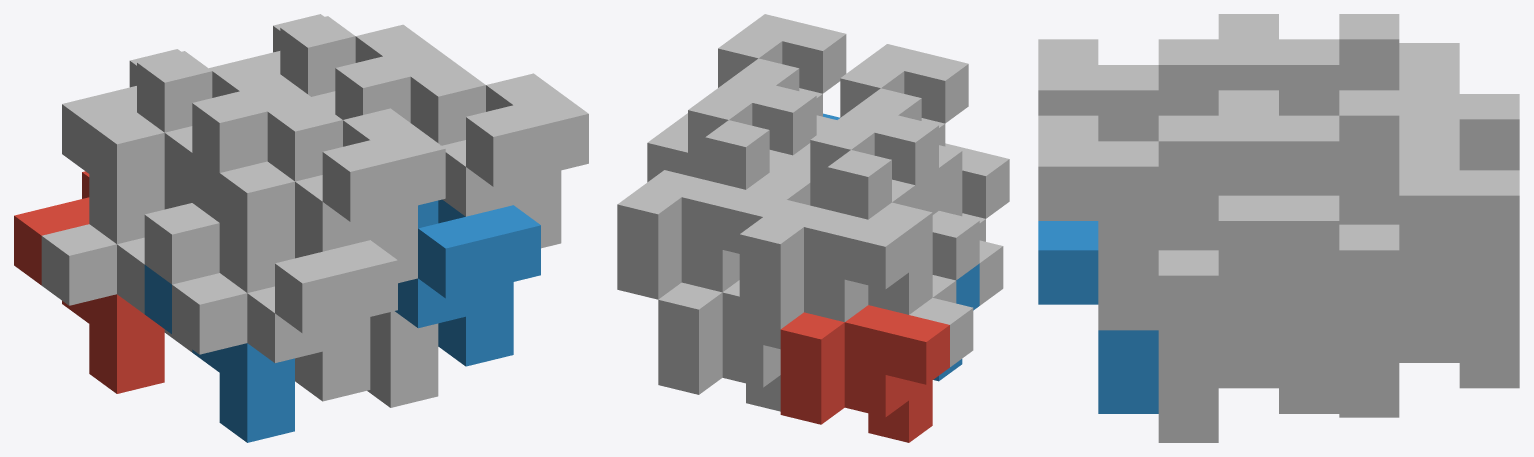
The model's file is tiling.obj.
The picture shows the model from 3 angles, left to right: view 1: azimuth 30°, elevation 25°; view 2: azimuth 150°, elevation 25°; view 3: azimuth 270°, elevation 25°; orthographic projection. The views are drawn at different scales.
Parts seen in each view (by area): view 1: copy_2_domain_4, copy_2_domain_2, copy_2_domain_8, copy_2_domain_3, copy_2_domain_6, copy_2_domain_1, copy_2_domain_7, copy_1_domain_1, copy_1_domain_2, copy_1_domain_6, copy_1_domain_3, copy_1_domain_4 (+1 smaller); view 2: copy_1_domain_1, copy_1_domain_3, copy_1_domain_7, copy_2_domain_3, copy_2_domain_7, copy_1_domain_5, copy_2_domain_4, copy_2_domain_8, copy_2_domain_1, copy_2_domain_2, copy_1_domain_8, copy_1_domain_4 (+1 smaller); view 3: copy_2_domain_8, copy_1_domain_7, copy_1_domain_8, copy_2_domain_7, copy_1_domain_6, copy_1_domain_5, copy_2_domain_3, copy_2_domain_4, copy_2_domain_6, copy_1_domain_3.
Boxes of the visible parts, x1,y1,x2,y2 form: copy_2_domain_4: [219, 100, 445, 283]; copy_2_domain_2: [172, 223, 397, 401]; copy_2_domain_8: [410, 65, 588, 248]; copy_2_domain_3: [89, 51, 314, 202]; copy_2_domain_6: [395, 199, 540, 366]; copy_2_domain_1: [41, 174, 219, 352]; copy_2_domain_7: [280, 16, 457, 122]; copy_1_domain_1: [14, 171, 164, 393]; copy_1_domain_2: [144, 265, 294, 442]; copy_1_domain_6: [367, 311, 438, 407]; copy_1_domain_3: [62, 49, 180, 173]; copy_1_domain_4: [192, 153, 219, 222]; copy_1_domain_1: [780, 305, 949, 442]; copy_1_domain_3: [739, 200, 908, 329]; copy_1_domain_7: [617, 170, 786, 299]; copy_2_domain_3: [810, 105, 938, 271]; copy_2_domain_7: [688, 75, 816, 205]; copy_1_domain_5: [658, 280, 780, 411]; copy_2_domain_4: [840, 44, 968, 210]; copy_2_domain_8: [718, 14, 846, 134]; copy_2_domain_1: [868, 211, 979, 366]; copy_2_domain_2: [939, 143, 1009, 305]; copy_1_domain_8: [647, 113, 687, 182]; copy_1_domain_4: [770, 143, 938, 214]; copy_2_domain_8: [1038, 115, 1218, 330]; copy_1_domain_7: [1339, 119, 1519, 333]; copy_1_domain_8: [1158, 195, 1339, 359]; copy_2_domain_7: [1218, 90, 1399, 224]; copy_1_domain_6: [1158, 304, 1339, 442]; copy_1_domain_5: [1339, 279, 1519, 417]; copy_2_domain_3: [1218, 14, 1399, 115]; copy_2_domain_4: [1038, 39, 1218, 141]; copy_2_domain_6: [1038, 221, 1158, 413]; copy_1_domain_3: [1399, 43, 1519, 170].
Size of the model in its own units: 8 by 6 by 8.
